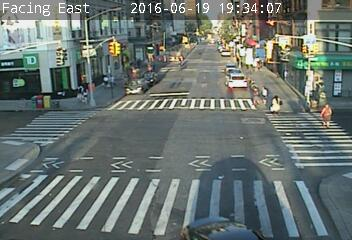neg: (266, 40, 299, 84), (13, 34, 39, 68), (36, 88, 60, 120), (53, 31, 77, 63), (99, 25, 121, 55), (216, 60, 235, 85), (136, 66, 151, 87)
pos: (68, 80, 95, 117), (313, 99, 337, 132), (264, 90, 286, 120), (254, 83, 273, 108), (246, 83, 264, 106), (102, 71, 117, 92)
